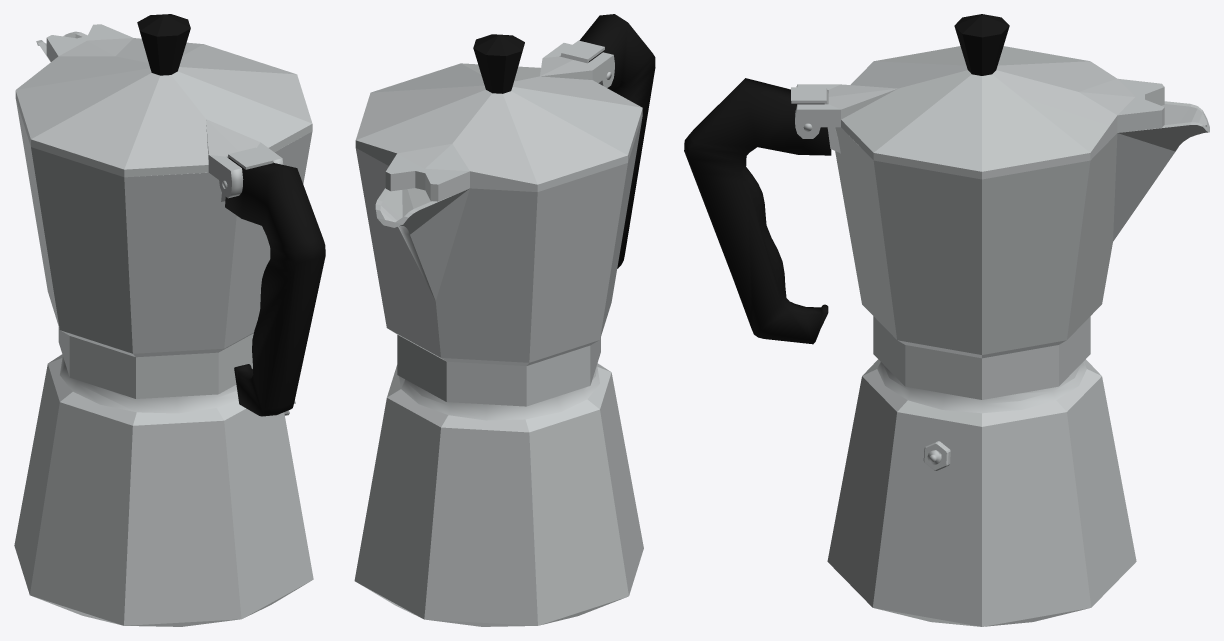
Rendered from obj_italian_moka_aka_caffettiera_c8681d.glb.
The picture shows the model from 3 angles, left to right: view 1: azimuth 30°, elevation 25°; view 2: azimuth 150°, elevation 25°; view 3: azimuth 270°, elevation 25°; orthographic projection. The views are drawn at different scales.
Visible parts, largest first — view 1: obj_italian_moka_aka_caffettiera_c8681d; view 2: obj_italian_moka_aka_caffettiera_c8681d; view 3: obj_italian_moka_aka_caffettiera_c8681d.
Part boxes in pixels (x1,y1,x2,y2): obj_italian_moka_aka_caffettiera_c8681d: (14, 14, 325, 626); obj_italian_moka_aka_caffettiera_c8681d: (354, 14, 655, 626); obj_italian_moka_aka_caffettiera_c8681d: (684, 14, 1209, 626).
Bounding box in the file's own units: 0.202 × 0.4 × 0.3435.
3 materials, 3 textured.
